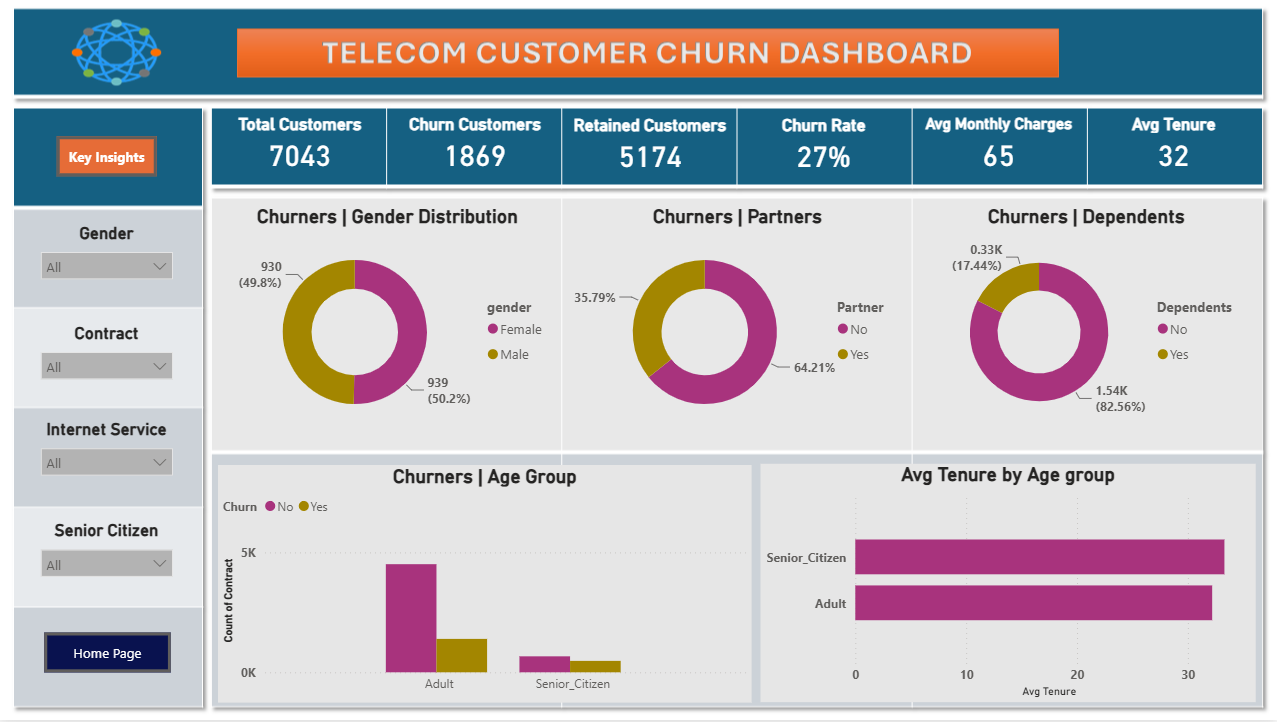

Layout of this report page (visuals, bound fields, positions):
{"tool":"powerbi","page":{"name":"Customer Analysis","canvas":[1280,720],"ordinal":1},"visuals":[{"type":"card","title":"Total Customers","fields":{"Values":["Telco_Customer_Churn.Total Customers"]},"box":[219.6,113.4,164.1,61.5],"z":0},{"type":"card","title":"Churn Customers","fields":{"Values":["Telco_Customer_Churn.Churn Customers"]},"box":[394.5,113.4,164.1,61.5],"z":1000},{"type":"card","title":"Retained Customers","fields":{"Values":["Telco_Customer_Churn.Retained Customers"]},"box":[569.4,114.6,164.1,61.5],"z":2000},{"type":"card","title":"Churn Rate","fields":{"Values":["Telco_Customer_Churn.Churn Rate %"]},"box":[744.4,114.6,164.1,61.5],"z":3000},{"type":"card","title":"Avg Monthly Charges","fields":{"Values":["Telco_Customer_Churn.Avg Monthly Charges"]},"box":[919.3,114.6,164.1,61.5],"z":4000},{"type":"card","title":"Avg Tenure","fields":{"Values":["Telco_Customer_Churn.Avg Tenure"]},"box":[1094.2,113.4,164.1,61.5],"z":5000},{"type":"slicer","title":"Gender","fields":{"Values":["Telco_Customer_Churn.gender"]},"box":[32.6,222,152,73.6],"z":6000},{"type":"slicer","title":"Contract","fields":{"Values":["Telco_Customer_Churn.Contract"]},"box":[32.6,322.1,152,73.6],"z":7000},{"type":"slicer","title":"Internet Service","fields":{"Values":["Telco_Customer_Churn.InternetService"]},"box":[32.6,418.6,152,73.6],"z":8000},{"type":"slicer","title":"Senior Citizen","fields":{"Values":["Telco_Customer_Churn.Senior Citizen"]},"box":[32.6,520,152,73.6],"z":9000},{"type":"actionButton","box":[45.8,632.2,126.7,39.8],"z":10000},{"type":"donutChart","title":"Churners | Gender Distribution","fields":{"Y":["Telco_Customer_Churn.Churners | Gender Distribution"],"Category":["Telco_Customer_Churn.gender"]},"box":[219.6,205.1,339,232.8],"z":11000},{"type":"donutChart","title":"Churners | Dependents","fields":{"Y":["Telco_Customer_Churn.Churners | Dependents"],"Category":["Telco_Customer_Churn.Dependents"]},"box":[919.3,205.1,339,232.8],"z":12000},{"type":"donutChart","title":"Churners | Partners","fields":{"Y":["Telco_Customer_Churn.Churners | Partners"],"Category":["Telco_Customer_Churn.Partner"]},"box":[569.4,205.1,339,232.8],"z":13000},{"type":"clusteredColumnChart","title":"Churners | Age Group","fields":{"Category":["Telco_Customer_Churn.Age Group"],"Series":["Telco_Customer_Churn.Churn"],"Y":["Telco_Customer_Churn.Count of Contract"]},"box":[220,465,533.8,237.5],"z":14000},{"type":"clusteredBarChart","title":"Avg Tenure by Age group","fields":{"Category":["Telco_Customer_Churn.Age Group"],"Y":["Telco_Customer_Churn.Avg Tenure"]},"box":[762.5,463.8,495,238.8],"z":15000},{"type":"actionButton","box":[58.8,136.2,100,40],"z":16000}]}

Visuals, with their boxes in screenshot pixels (x1, y1, x2, y2), scaled from the page's 1280x720 canvas onto the 1277x722 screenshot:
"Total Customers" card: [left=219, top=114, right=383, bottom=175]
"Churn Customers" card: [left=394, top=114, right=557, bottom=175]
"Retained Customers" card: [left=568, top=115, right=732, bottom=177]
"Churn Rate" card: [left=743, top=115, right=906, bottom=177]
"Avg Monthly Charges" card: [left=917, top=115, right=1081, bottom=177]
"Avg Tenure" card: [left=1092, top=114, right=1255, bottom=175]
"Gender" slicer: [left=33, top=223, right=184, bottom=296]
"Contract" slicer: [left=33, top=323, right=184, bottom=397]
"Internet Service" slicer: [left=33, top=420, right=184, bottom=494]
"Senior Citizen" slicer: [left=33, top=521, right=184, bottom=595]
actionButton: [left=46, top=634, right=172, bottom=674]
"Churners | Gender Distribution" donutChart: [left=219, top=206, right=557, bottom=439]
"Churners | Dependents" donutChart: [left=917, top=206, right=1255, bottom=439]
"Churners | Partners" donutChart: [left=568, top=206, right=906, bottom=439]
"Churners | Age Group" clusteredColumnChart: [left=219, top=466, right=752, bottom=704]
"Avg Tenure by Age group" clusteredBarChart: [left=761, top=465, right=1255, bottom=705]
actionButton: [left=59, top=137, right=158, bottom=177]
